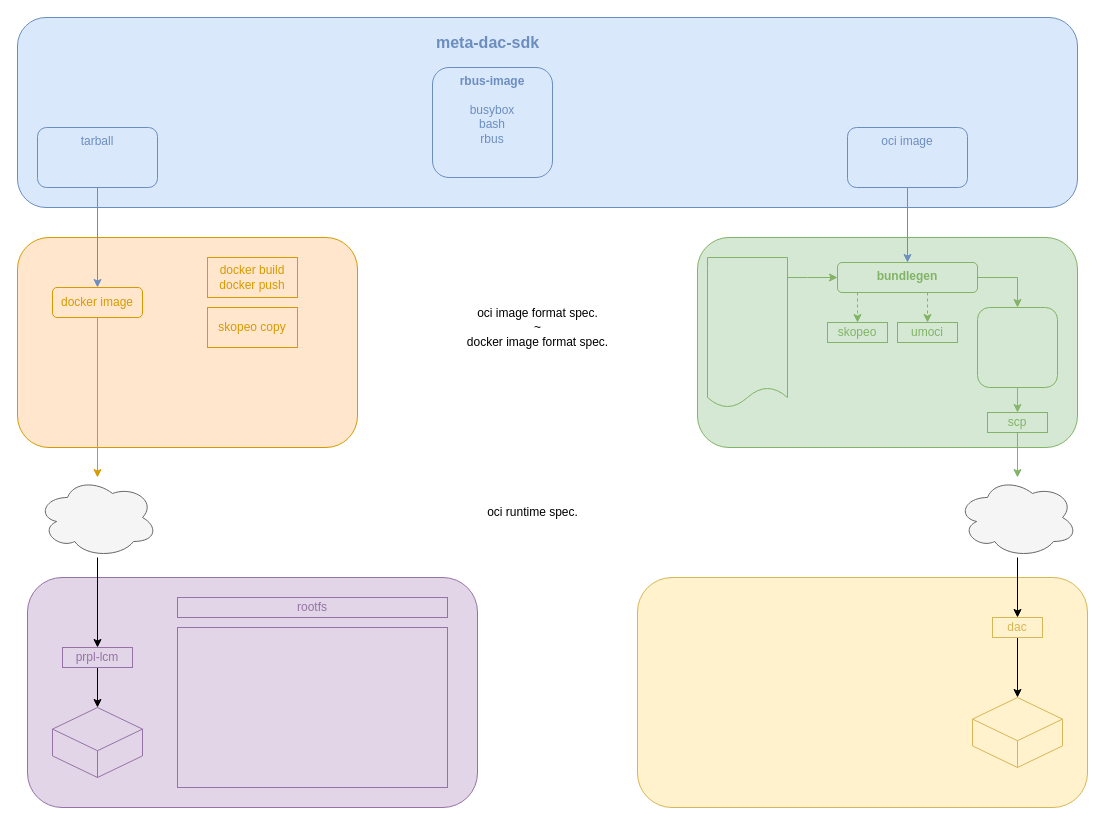
Image size: 1105x825. Some labels were removed from this diagram. The centre of each missing label's shape, as x and y in pixels:
crun: the point at 1017,732
docker-hub aws-ecr: the point at 97,517
http server: the point at 1017,517
lxc: the point at 97,742
lxc config: the point at 312,707
oci bundle: the point at 1017,347
template: the point at 747,332
